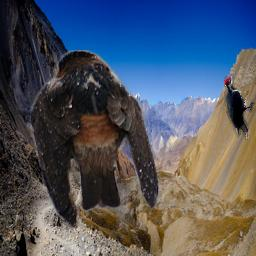Swallow: (30, 50, 161, 230)
Woodpecker: (224, 73, 255, 140)
